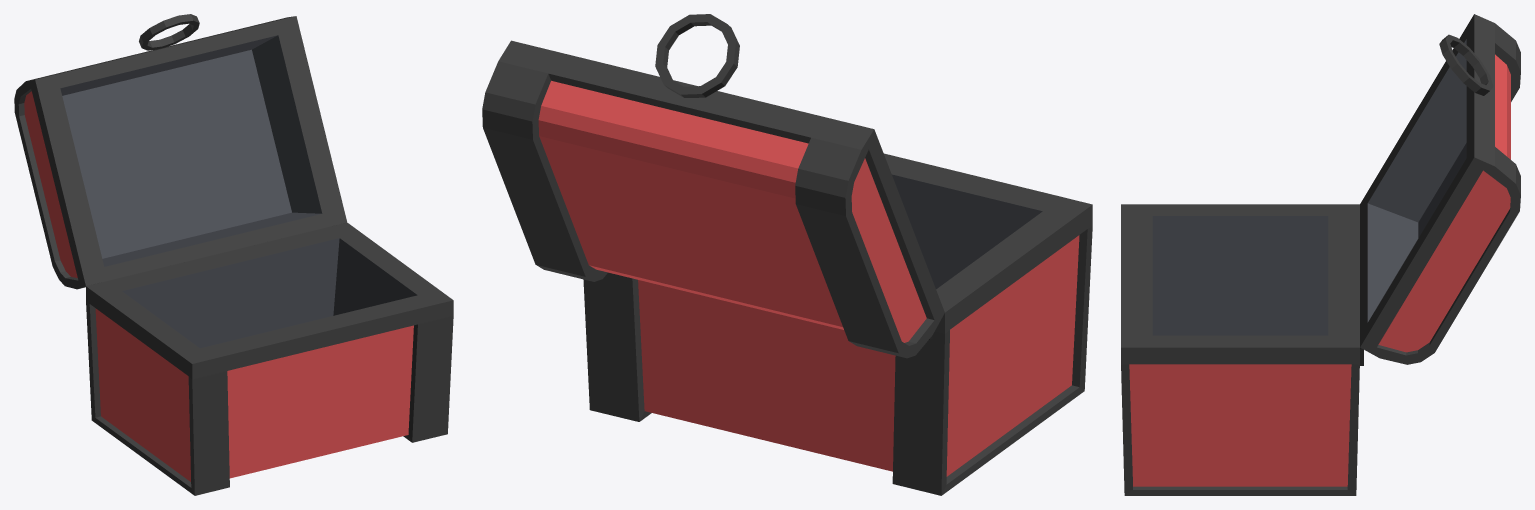
The model's file is OpenedTreasureChest.fbx.
The picture shows the model from 3 angles, left to right: view 1: azimuth 30°, elevation 25°; view 2: azimuth 150°, elevation 25°; view 3: azimuth 270°, elevation 25°; orthographic projection. The views are drawn at different scales.
Visible parts, largest first — view 1: Mesh; view 2: Mesh; view 3: Mesh.
Boxes of the visible parts, left/top/right/bottom form: Mesh: left=14, top=14, right=453, bottom=495; Mesh: left=482, top=14, right=1092, bottom=495; Mesh: left=1121, top=14, right=1520, bottom=495.
Bounding box in the file's own units: 0.9362 × 1.18 × 1.1.
